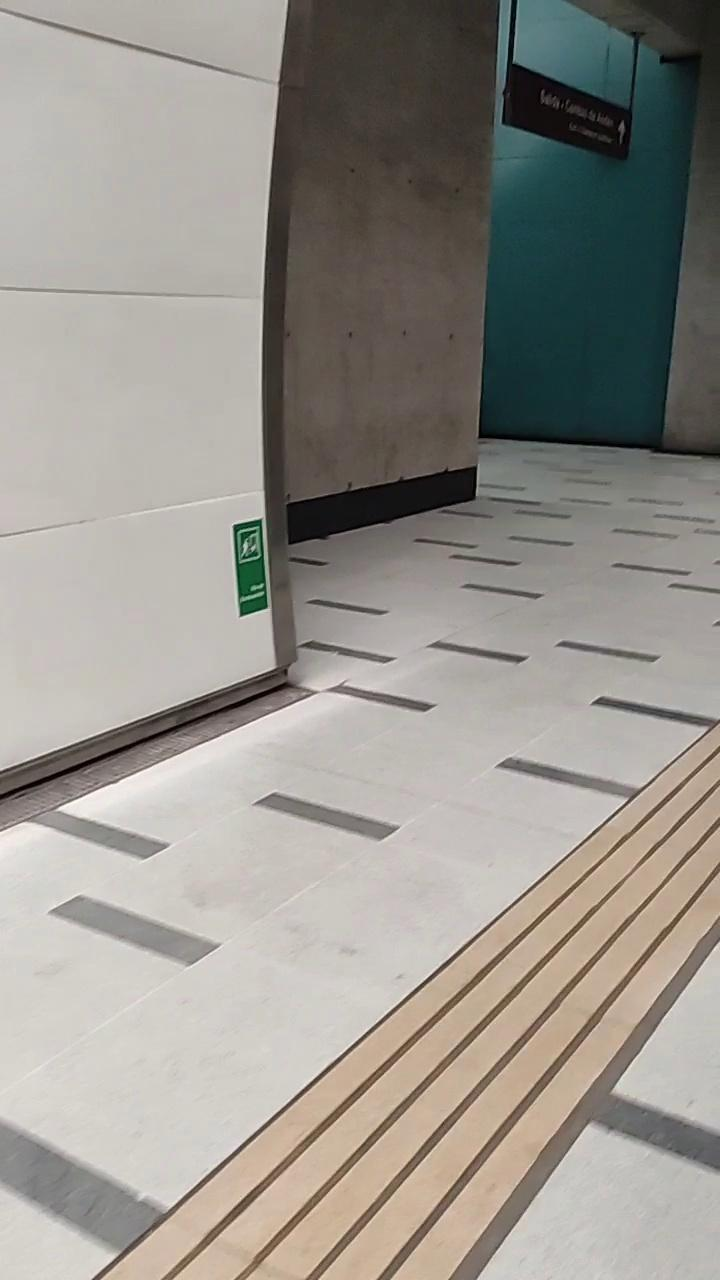up arrow: (612, 114, 630, 148)
